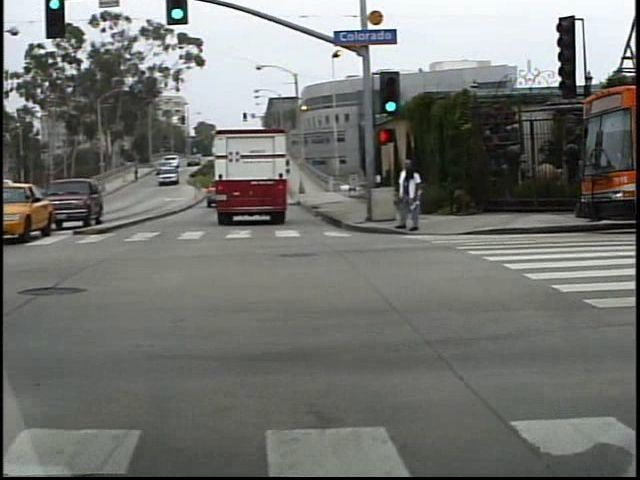person: (399, 157, 428, 237)
